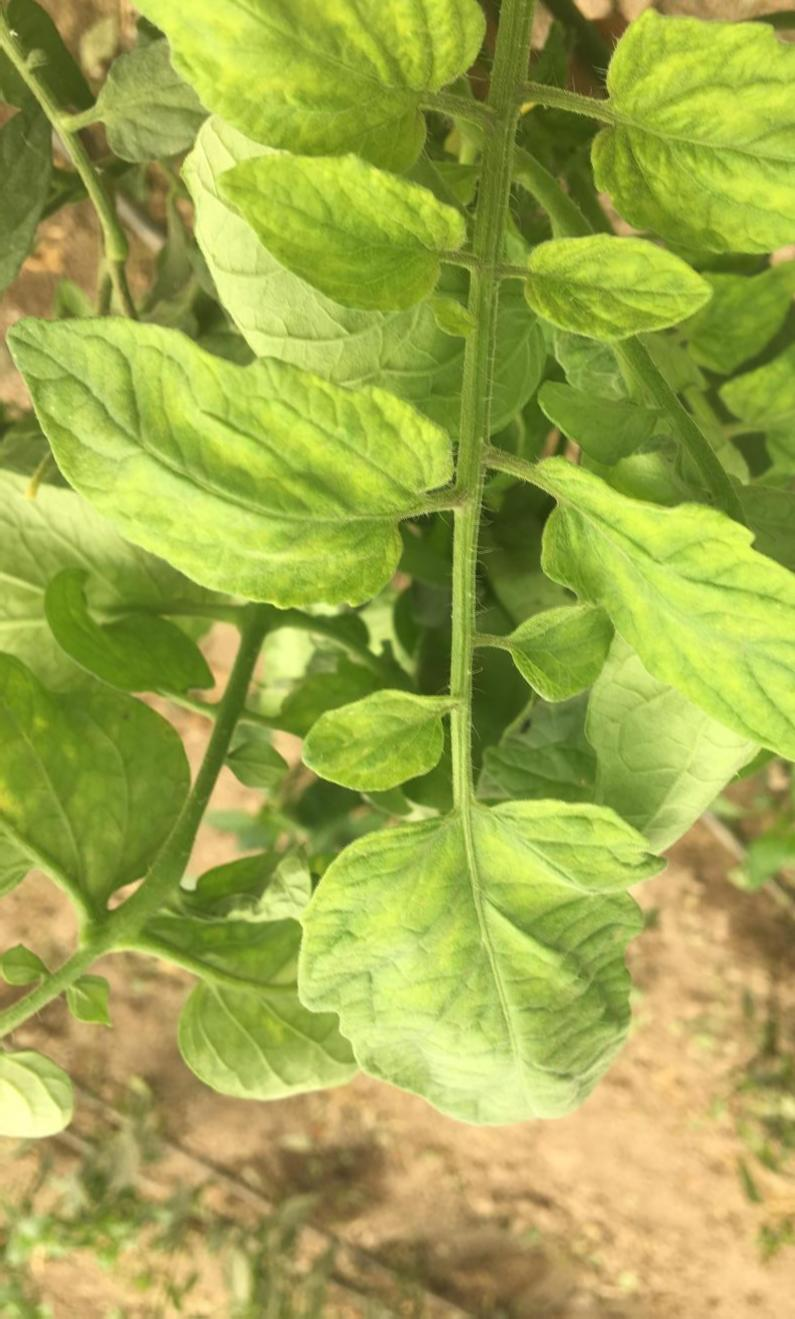Tomato leaf yellow virus: (0, 277, 418, 613), (290, 786, 666, 1148), (168, 134, 508, 369), (551, 488, 795, 814), (559, 0, 795, 281)
